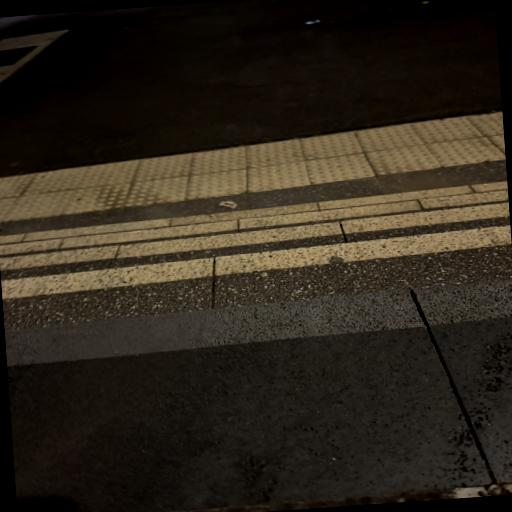stairs: (0, 112, 512, 349)
